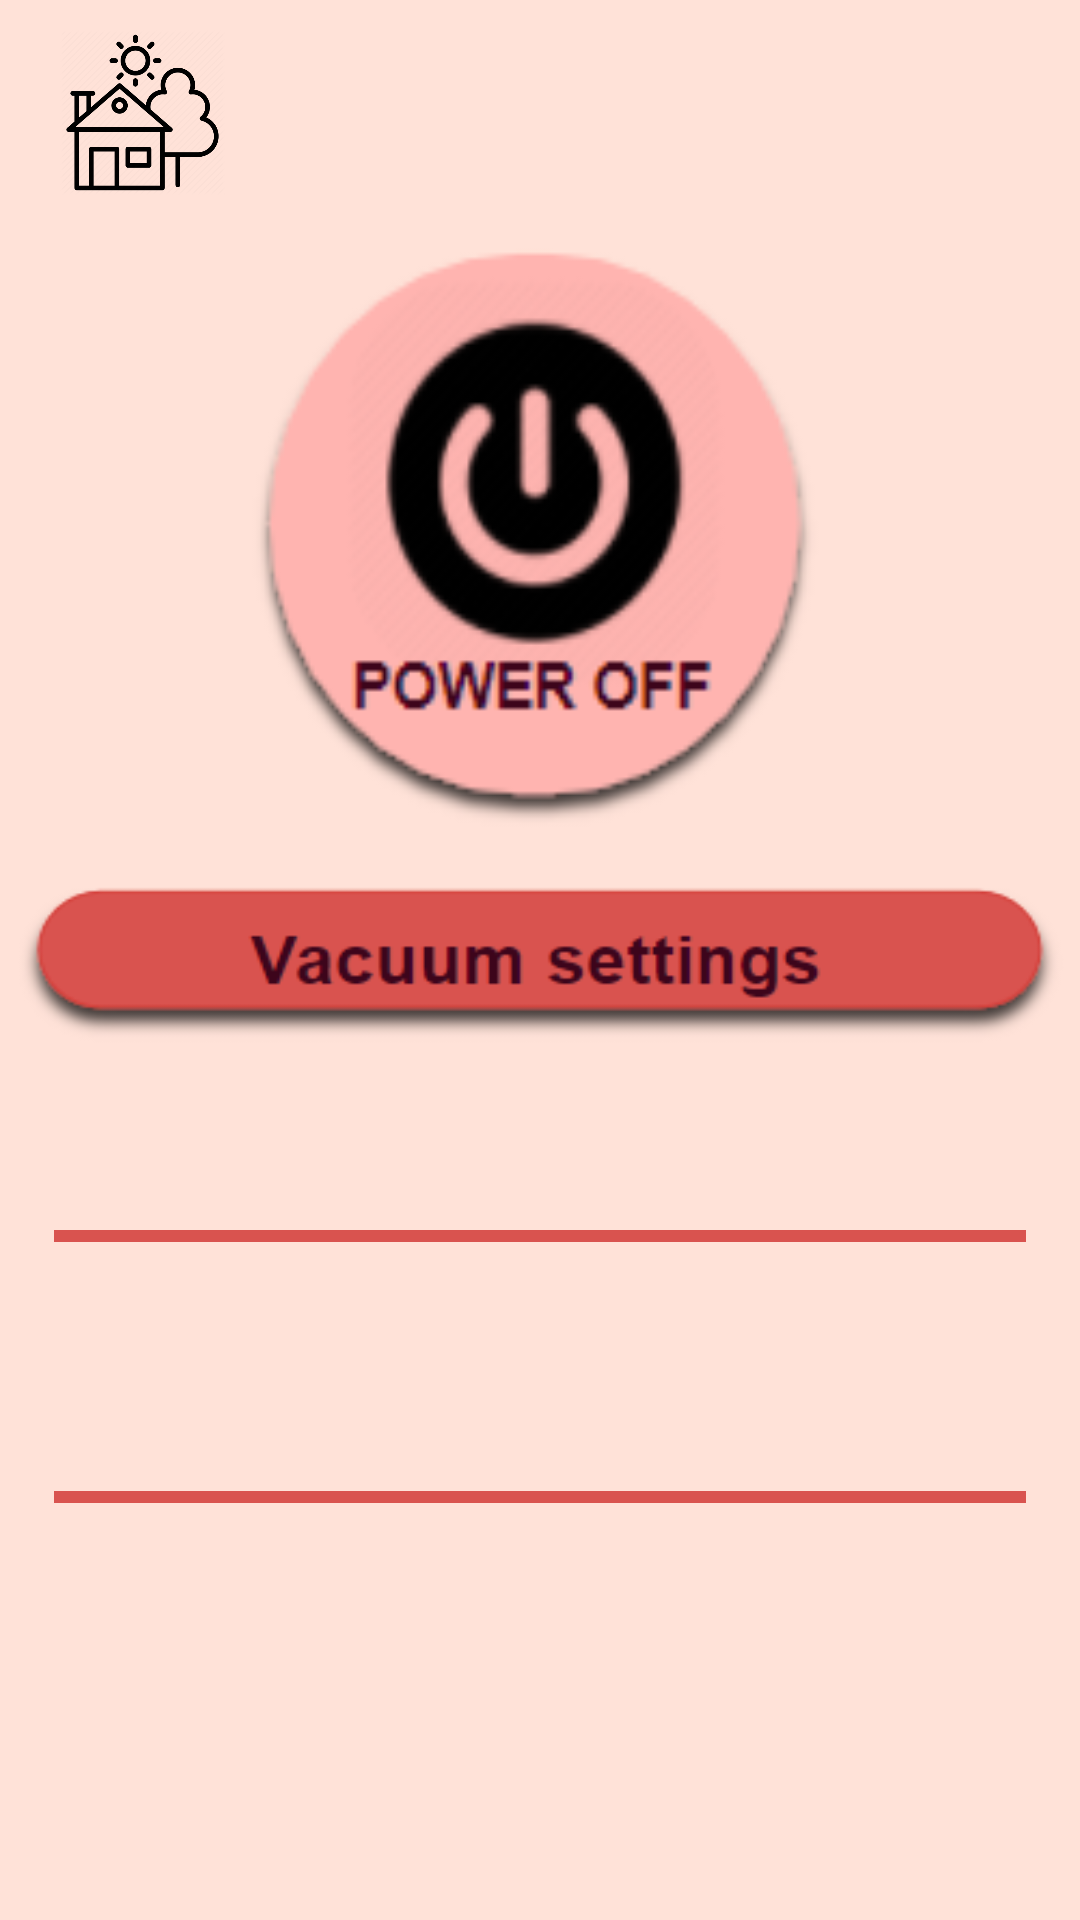

Where icons sit on this 1080 × 1920 app screen, as (x1, y1, x2, y2):
house: (66, 34, 219, 191)
